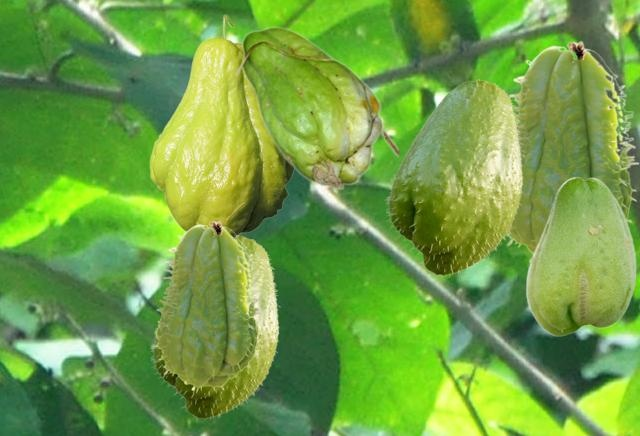sayote: (149, 14, 294, 234), (506, 40, 638, 253), (384, 79, 523, 277), (234, 26, 397, 189), (149, 235, 279, 420), (153, 220, 262, 392), (525, 176, 635, 335)
